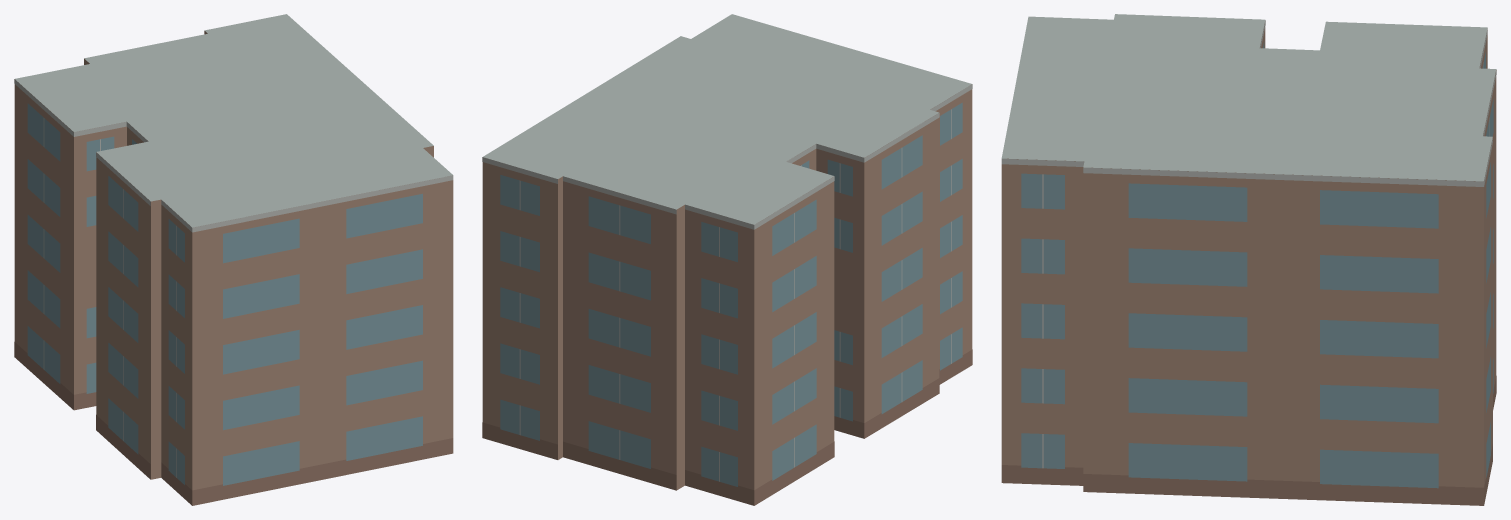
File: survey-upis-32616318.glb
3 renders of one model, left to right at view 1: azimuth 30°, elevation 25°; view 2: azimuth 150°, elevation 25°; view 3: azimuth 270°, elevation 25°, orthographic. The views are drawn at different scales.
Parts seen in each view (by area): view 1: survey-upis-32616318.tmp; view 2: survey-upis-32616318.tmp; view 3: survey-upis-32616318.tmp.
Boxes of the visible parts, <box> form: survey-upis-32616318.tmp: <box>14,14,453,505</box>; survey-upis-32616318.tmp: <box>482,14,972,505</box>; survey-upis-32616318.tmp: <box>1001,14,1496,505</box>.
Bounding box in the file's own units: 15.39 × 13.9 × 19.22.
